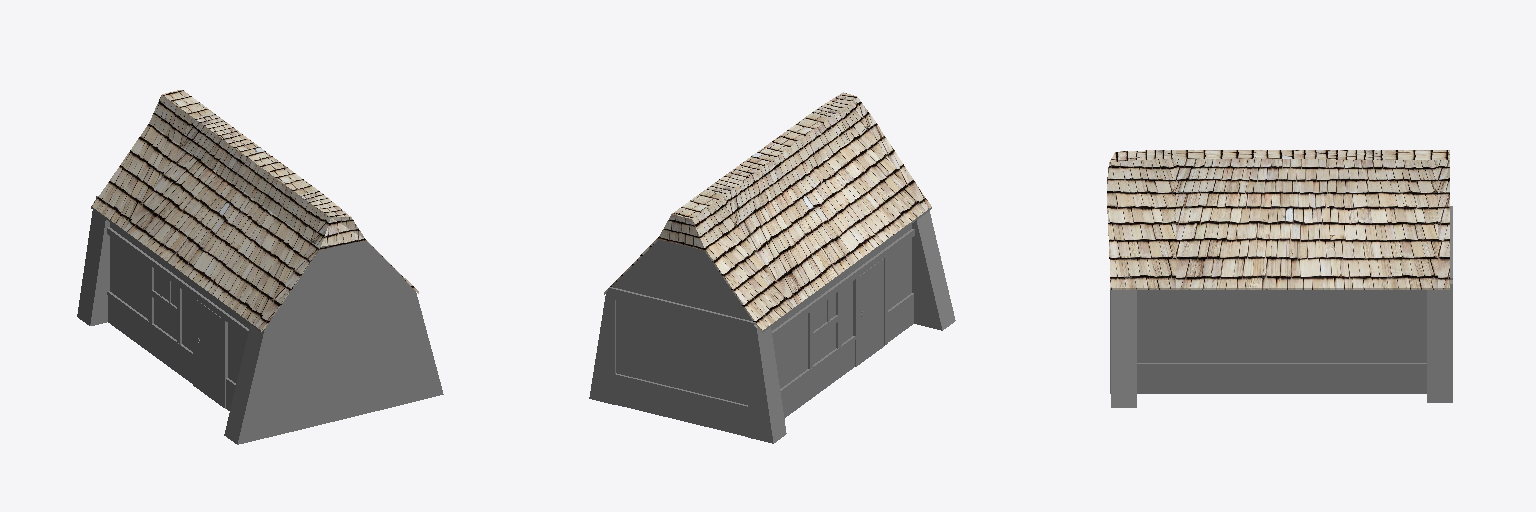
3 renders of one model, left to right at view 1: azimuth 30°, elevation 25°; view 2: azimuth 150°, elevation 25°; view 3: azimuth 270°, elevation 25°, orthographic.
Visible parts, largest first — view 1: casa4_telhado, casa4_paredes, casa4_parede_lado, casa4_porta, casa4_janela; view 2: casa4_telhado, casa4_paredes, casa4_parede_lado, casa4_porta, casa4_janela; view 3: casa4_telhado, casa4_parede_lado.
Boxes of the visible parts, x1=… form: casa4_telhado: x1=92, y1=90, x2=418, y2=332; casa4_paredes: x1=96, y1=196, x2=413, y2=444; casa4_parede_lado: x1=77, y1=200, x2=443, y2=443; casa4_porta: x1=193, y1=297, x2=227, y2=408; casa4_janela: x1=148, y1=264, x2=181, y2=344; casa4_telhado: x1=604, y1=92, x2=931, y2=331; casa4_paredes: x1=589, y1=125, x2=869, y2=443; casa4_parede_lado: x1=754, y1=207, x2=955, y2=442; casa4_porta: x1=853, y1=256, x2=887, y2=366; casa4_janela: x1=808, y1=289, x2=841, y2=368; casa4_telhado: x1=1107, y1=150, x2=1449, y2=289; casa4_parede_lado: x1=1110, y1=280, x2=1452, y2=407.
Size of the model in its own units: 37.33 by 35.23 by 54.31.
Materials: 6 (1 with a texture image).